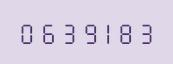eight: (117, 20, 136, 44)
nine: (77, 20, 96, 44)
one: (97, 20, 116, 44)
six: (37, 20, 56, 44)
three: (57, 20, 76, 44), (137, 20, 156, 44)
zero: (17, 20, 36, 44)
